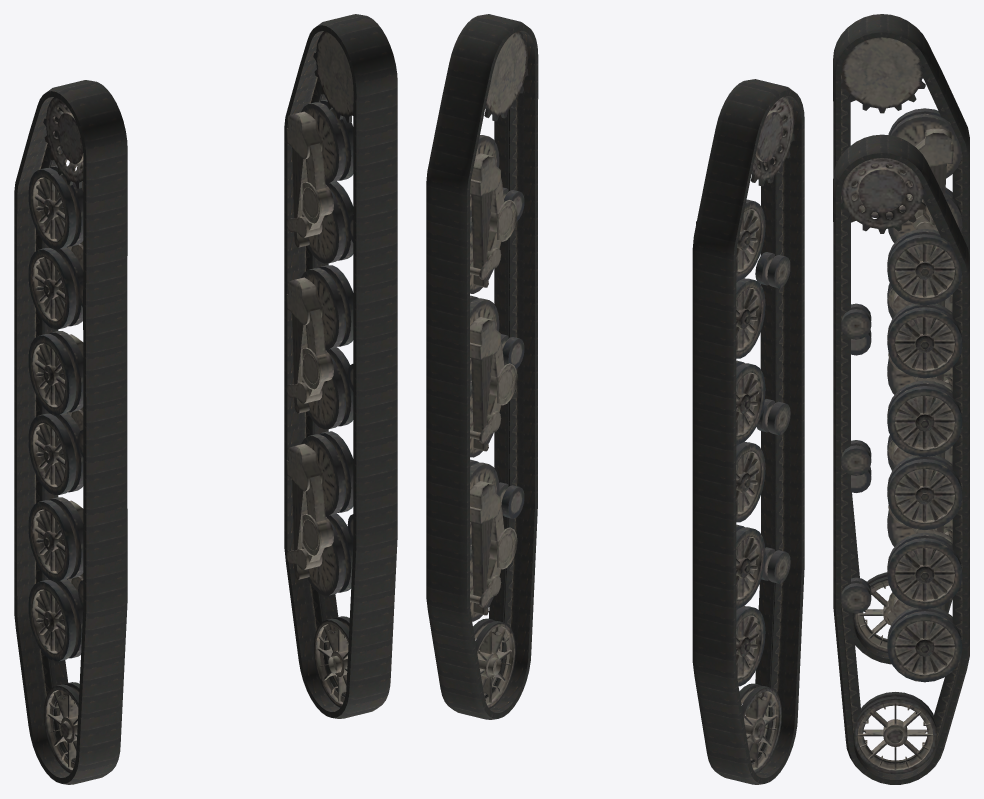
Rendered from Chassis.glb.
The picture shows the model from 3 angles, left to right: view 1: azimuth 30°, elevation 25°; view 2: azimuth 150°, elevation 25°; view 3: azimuth 270°, elevation 25°; orthographic projection. The views are drawn at different scales.
Parts seen in each view (by area): view 1: set_0_group_0, set_1_group_0, set_3_group_0, set_2_group_0; view 2: set_0_group_0, set_1_group_0, set_3_group_0, set_2_group_0; view 3: set_3_group_0, set_1_group_0, set_2_group_0, set_0_group_0.
Boxes of the visible parts, box(x1,y1,x2,y2) form: set_0_group_0: box(14, 80, 127, 784); set_1_group_0: box(284, 14, 397, 718); set_3_group_0: box(286, 31, 353, 707); set_2_group_0: box(28, 97, 83, 773); set_0_group_0: box(692, 79, 804, 784); set_1_group_0: box(426, 14, 538, 719); set_3_group_0: box(470, 31, 527, 708); set_2_group_0: box(696, 96, 794, 773); set_3_group_0: box(841, 158, 962, 774); set_1_group_0: box(833, 134, 969, 784); set_2_group_0: box(841, 37, 962, 652); set_0_group_0: box(833, 14, 969, 664).
Bounding box in the file's own units: 2.3 × 4.91 × 0.9567.
4 materials, 4 textured.
